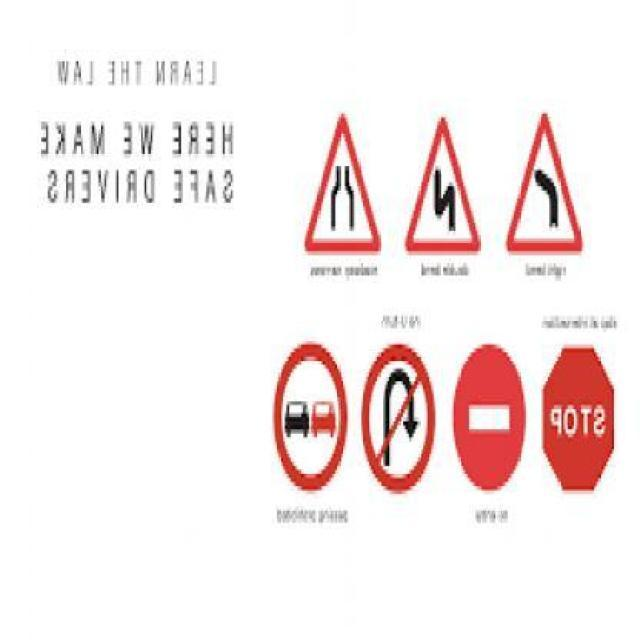warn_double_curve: (403, 109, 482, 260)
warn_left_curve: (499, 110, 592, 257)
